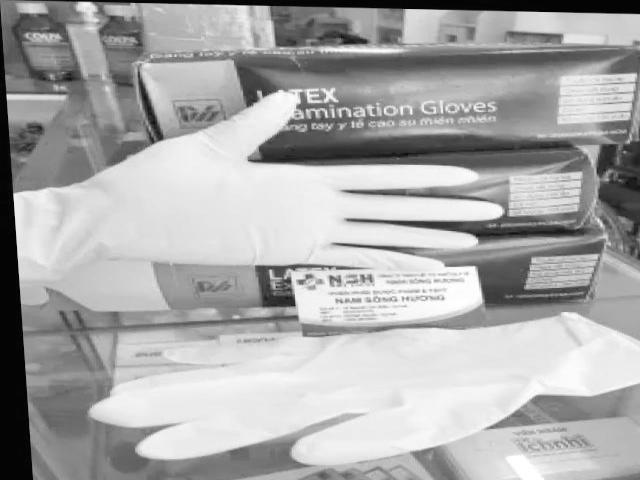gloved: (114, 94, 500, 275)
